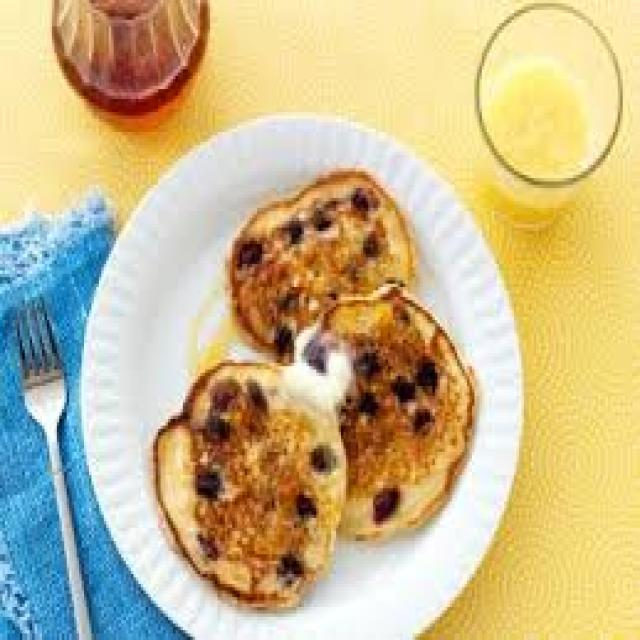Organik: (292, 292, 474, 534), (225, 159, 415, 339)
